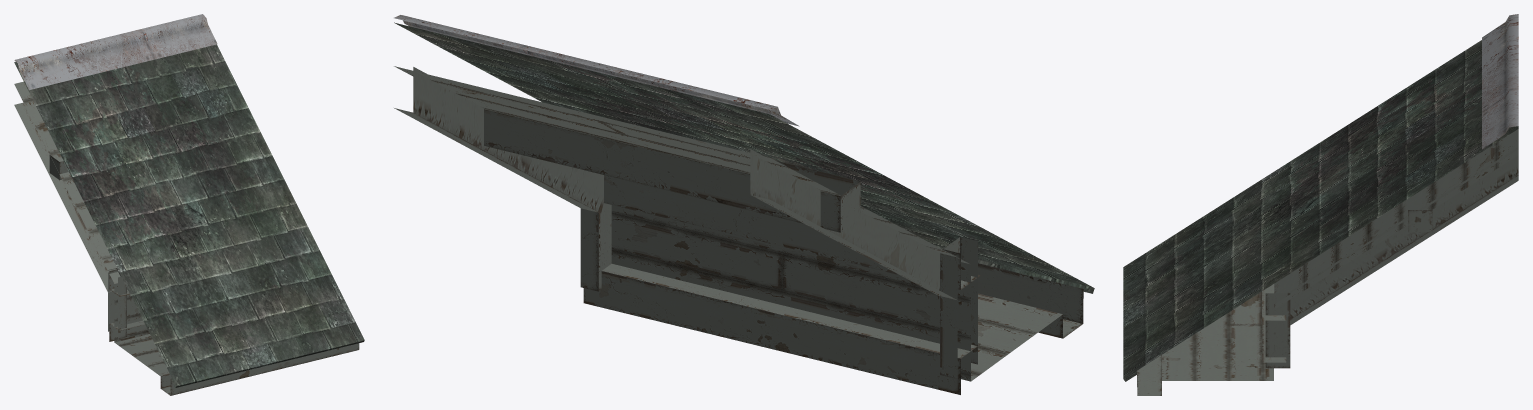
File: SM_Roof200x200.FBX
3 renders of one model, left to right at view 1: azimuth 30°, elevation 25°; view 2: azimuth 150°, elevation 25°; view 3: azimuth 270°, elevation 25°, orthographic. The views are drawn at different scales.
Parts seen in each view (by area): view 1: SM_Roof200x200; view 2: SM_Roof200x200; view 3: SM_Roof200x200.
Boxes of the visible parts, x1,y1,x2,y2 form: SM_Roof200x200: (14, 14, 364, 395); SM_Roof200x200: (394, 15, 1094, 394); SM_Roof200x200: (1123, 14, 1518, 395).
Size of the model in its own units: 200 by 224 by 298.
